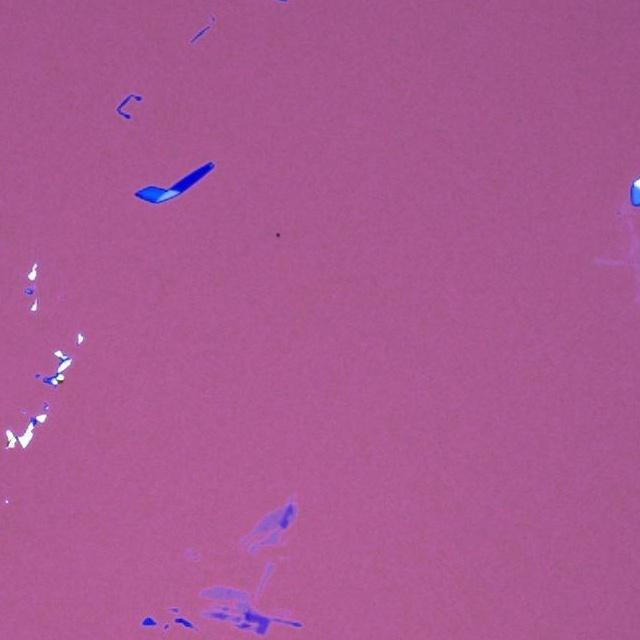monolayer-eWW4: (198, 585, 258, 614), (256, 504, 286, 532), (258, 562, 276, 602), (262, 532, 280, 546)
